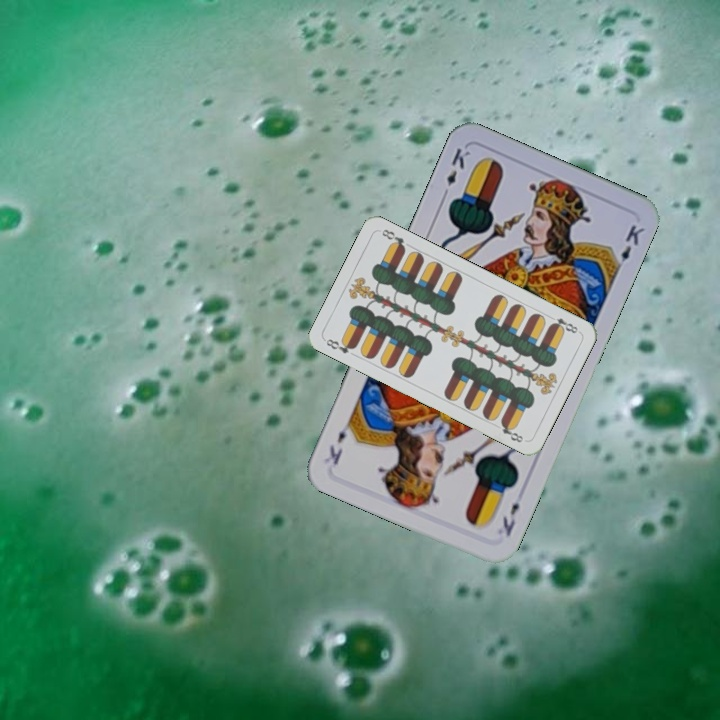E8: (545, 311, 582, 336), (322, 334, 359, 356)
EK: (438, 144, 473, 201), (498, 498, 522, 539)
